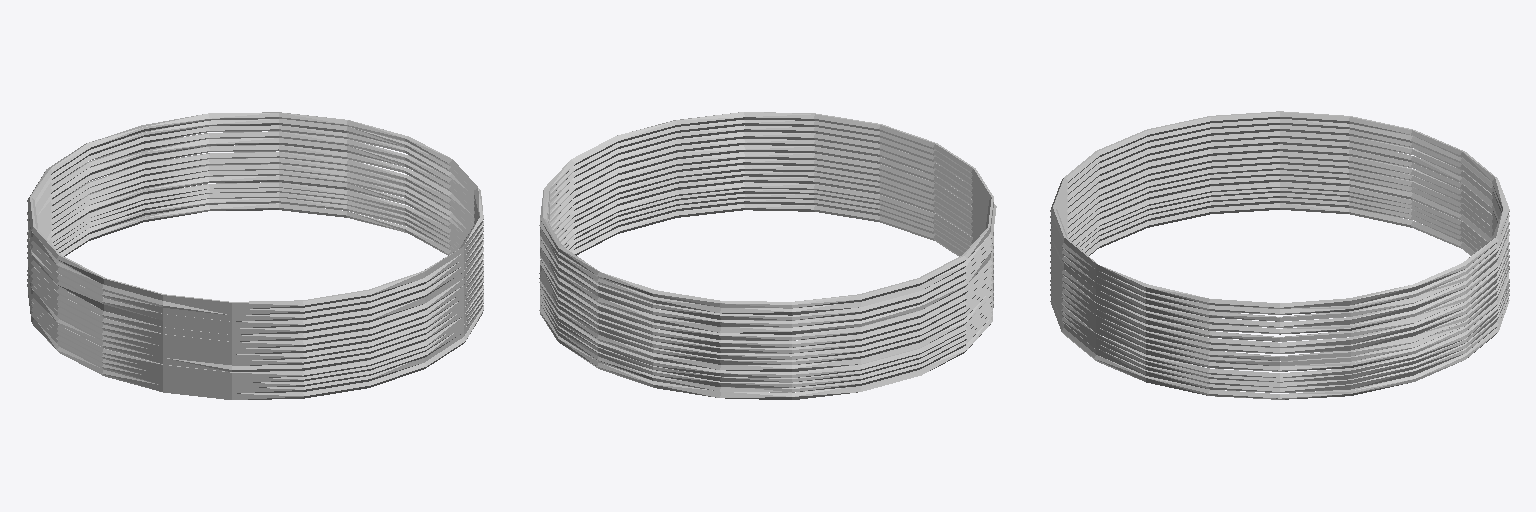
File: shield_2.obj
3 views of the same model, side by side, from view 1: azimuth 30°, elevation 25°; view 2: azimuth 150°, elevation 25°; view 3: azimuth 270°, elevation 25° (orthographic).
Parts seen in each view (by area): view 1: initialShadingGroup pTorus16, initialShadingGroup pTorus3, initialShadingGroup pTorus5, initialShadingGroup pTorus6, initialShadingGroup pTorus4, initialShadingGroup pTorus13, initialShadingGroup pTorus1, initialShadingGroup pTorus10, initialShadingGroup pTorus11, initialShadingGroup pTorus2, initialShadingGroup pTorus8, initialShadingGroup pTorus7 (+4 smaller); view 2: initialShadingGroup pTorus16, initialShadingGroup pTorus5, initialShadingGroup pTorus3, initialShadingGroup pTorus6, initialShadingGroup pTorus4, initialShadingGroup pTorus13, initialShadingGroup pTorus11, initialShadingGroup pTorus8, initialShadingGroup pTorus1, initialShadingGroup pTorus2, initialShadingGroup pTorus10, initialShadingGroup pTorus7 (+4 smaller); view 3: initialShadingGroup pTorus16, initialShadingGroup pTorus3, initialShadingGroup pTorus5, initialShadingGroup pTorus6, initialShadingGroup pTorus4, initialShadingGroup pTorus13, initialShadingGroup pTorus1, initialShadingGroup pTorus2, initialShadingGroup pTorus10, initialShadingGroup pTorus8, initialShadingGroup pTorus7, initialShadingGroup pTorus11 (+4 smaller).
Boxes of the visible parts, x1=… form: initialShadingGroup pTorus16: x1=27, y1=112, x2=483, y2=309; initialShadingGroup pTorus3: x1=27, y1=131, x2=483, y2=328; initialShadingGroup pTorus5: x1=27, y1=145, x2=483, y2=341; initialShadingGroup pTorus6: x1=27, y1=151, x2=483, y2=348; initialShadingGroup pTorus4: x1=28, y1=138, x2=483, y2=334; initialShadingGroup pTorus13: x1=28, y1=203, x2=483, y2=399; initialShadingGroup pTorus1: x1=28, y1=119, x2=483, y2=314; initialShadingGroup pTorus10: x1=28, y1=175, x2=483, y2=371; initialShadingGroup pTorus11: x1=27, y1=182, x2=483, y2=378; initialShadingGroup pTorus2: x1=27, y1=125, x2=483, y2=321; initialShadingGroup pTorus8: x1=27, y1=164, x2=483, y2=360; initialShadingGroup pTorus7: x1=27, y1=158, x2=483, y2=354; initialShadingGroup pTorus16: x1=540, y1=112, x2=993, y2=308; initialShadingGroup pTorus5: x1=540, y1=145, x2=993, y2=340; initialShadingGroup pTorus3: x1=540, y1=132, x2=993, y2=327; initialShadingGroup pTorus6: x1=540, y1=152, x2=993, y2=347; initialShadingGroup pTorus4: x1=540, y1=139, x2=990, y2=334; initialShadingGroup pTorus13: x1=539, y1=204, x2=993, y2=399; initialShadingGroup pTorus11: x1=540, y1=182, x2=993, y2=377; initialShadingGroup pTorus8: x1=539, y1=165, x2=993, y2=359; initialShadingGroup pTorus1: x1=539, y1=120, x2=996, y2=315; initialShadingGroup pTorus2: x1=540, y1=125, x2=992, y2=320; initialShadingGroup pTorus10: x1=539, y1=176, x2=993, y2=371; initialShadingGroup pTorus7: x1=540, y1=159, x2=993, y2=353; initialShadingGroup pTorus16: x1=1050, y1=111, x2=1509, y2=308; initialShadingGroup pTorus3: x1=1050, y1=131, x2=1509, y2=327; initialShadingGroup pTorus5: x1=1050, y1=144, x2=1509, y2=341; initialShadingGroup pTorus6: x1=1050, y1=151, x2=1509, y2=347; initialShadingGroup pTorus4: x1=1050, y1=138, x2=1509, y2=334; initialShadingGroup pTorus13: x1=1050, y1=203, x2=1509, y2=399; initialShadingGroup pTorus1: x1=1050, y1=119, x2=1509, y2=314; initialShadingGroup pTorus2: x1=1050, y1=125, x2=1509, y2=321; initialShadingGroup pTorus10: x1=1050, y1=176, x2=1509, y2=371; initialShadingGroup pTorus8: x1=1050, y1=164, x2=1509, y2=360; initialShadingGroup pTorus7: x1=1050, y1=158, x2=1509, y2=353; initialShadingGroup pTorus11: x1=1050, y1=182, x2=1509, y2=377.
Size of the model in its own units: 2.02 by 0.4743 by 2.02.